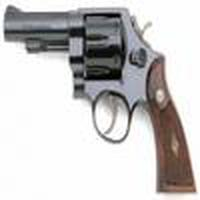gun: (3, 6, 200, 194)
